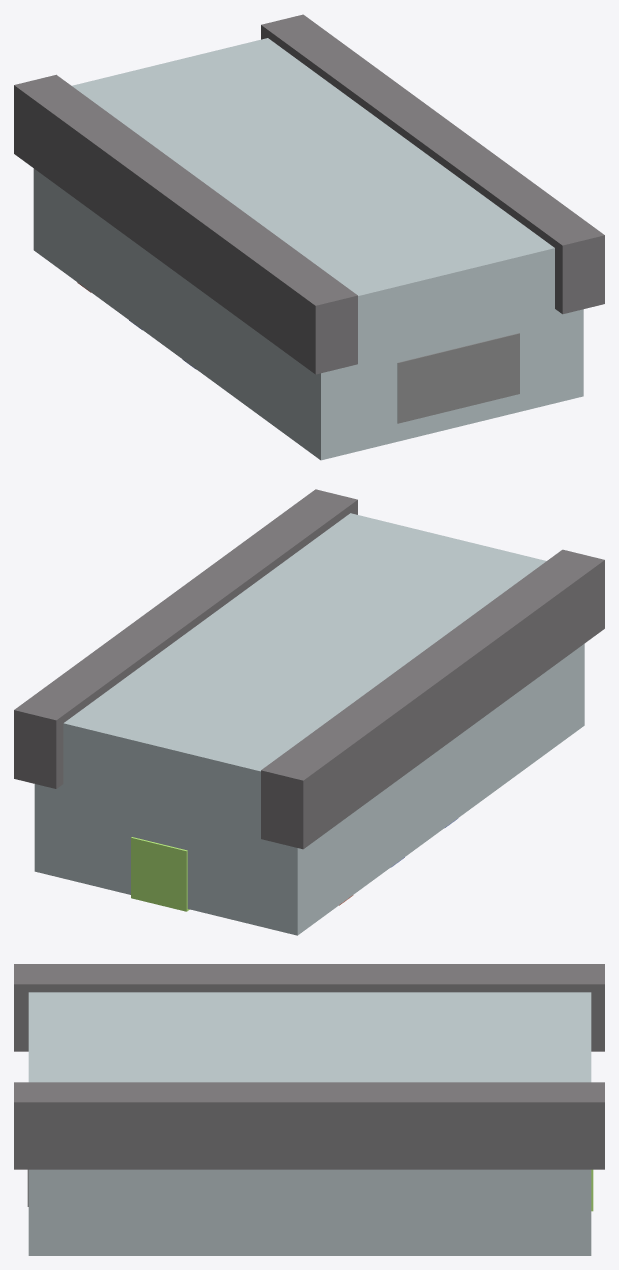
The model's file is Kodak_scene2.gltf.
3 renders of one model, top to bottom at view 1: azimuth 30°, elevation 25°; view 2: azimuth 150°, elevation 25°; view 3: azimuth 270°, elevation 25°, orthographic. The views are drawn at different scales.
Parts seen in each view (by area): view 1: Wall, History; view 2: Wall, Door; view 3: Wall.
Boxes of the visible parts, bbox=[...] form: Wall: bbox=[14, 14, 604, 460]; History: bbox=[397, 333, 519, 423]; Wall: bbox=[14, 489, 604, 935]; Door: bbox=[131, 837, 189, 911]; Wall: bbox=[14, 964, 604, 1255].
Size of the model in its own units: 23.78 by 12.99 by 42.93.
